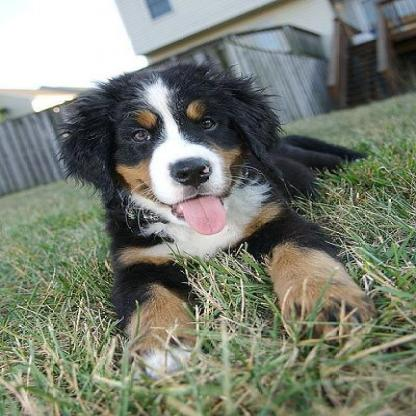Bernese_mountain_dog: (58, 61, 364, 372)
